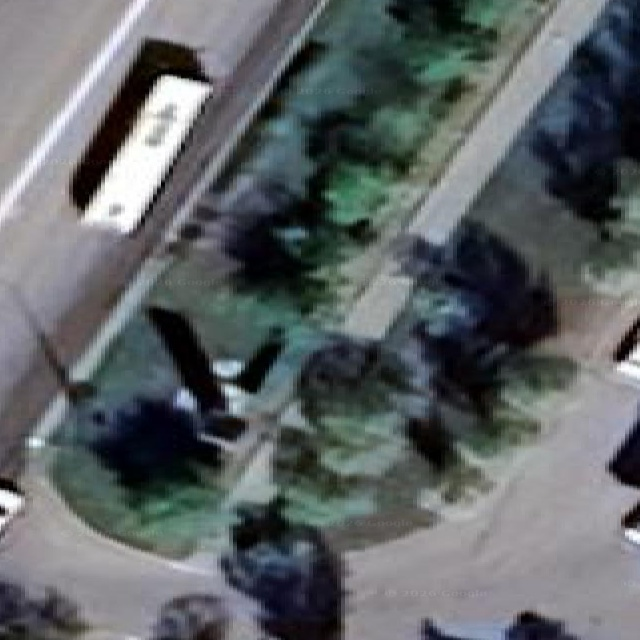car: (0, 478, 24, 535)
